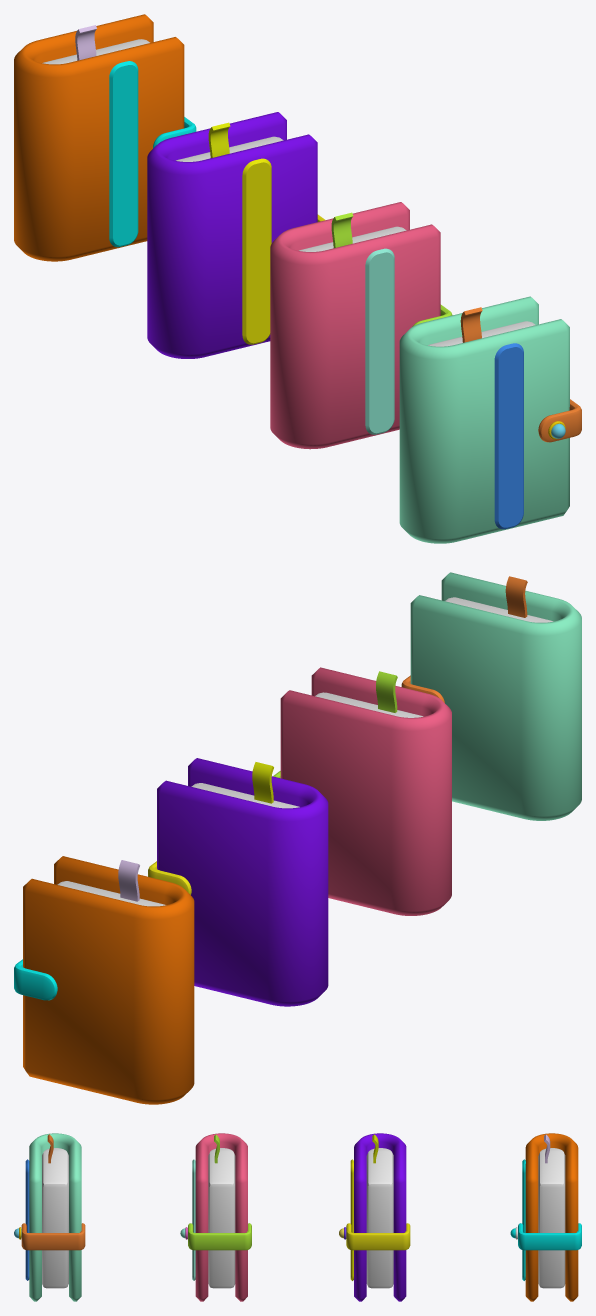
File: 3dmodel6489cbc31de29libro.glb
3 renders of one model, top to bottom at view 1: azimuth 30°, elevation 25°; view 2: azimuth 150°, elevation 25°; view 3: azimuth 270°, elevation 25°, orthographic. The views are drawn at different scales.
Parts seen in each view (by area): view 1: Portada_Libro, Portada_Libro.003, Portada_Libro.001, Portada_Libro.002, AgarreLibro.001, AgarreLibro, AgarreLibro.003, AgarreLibro.002, CierreLibro; view 2: Portada_Libro.003, Portada_Libro.002, Portada_Libro, Portada_Libro.001, CierreLibro.003, MarcaPaginas, MarcaPaginas.001, MarcaPaginas.002, MarcaPaginas.003; view 3: Portada_Libro.003, Portada_Libro.001, Portada_Libro.002, Portada_Libro, Paginas.002, Paginas.001, Paginas.003, Paginas, CierreLibro.002, CierreLibro, CierreLibro.001, CierreLibro.003 (+4 smaller).
Part boxes in pixels (x1,y1,x2,y2): Portada_Libro: (399,296,569,543); Portada_Libro.003: (14,14,184,261); Portada_Libro.001: (270,202,440,449); Portada_Libro.002: (147,112,317,358); AgarreLibro.001: (365,248,394,434); AgarreLibro: (494,343,523,529); AgarreLibro.003: (109,61,138,247); AgarreLibro.002: (242,158,271,344); CierreLibro: (538,399,581,442); Portada_Libro.003: (23,856,194,1104); Portada_Libro.002: (157,758,328,1006); Portada_Libro: (410,572,581,820); Portada_Libro.001: (280,667,451,915); CierreLibro.003: (14,959,57,1000); MarcaPaginas: (505,576,527,617); MarcaPaginas.001: (376,671,397,712); MarcaPaginas.002: (252,762,273,803); MarcaPaginas.003: (118,860,139,901); Portada_Libro.003: (525,1133,578,1301); Portada_Libro.001: (195,1133,247,1301); Portada_Libro.002: (354,1133,406,1301); Portada_Libro: (29,1133,81,1301); Paginas.002: (366,1148,393,1288); Paginas.001: (208,1148,235,1288); Paginas.003: (538,1148,565,1288); Paginas: (42,1148,68,1288); CierreLibro.002: (346,1223,410,1250); CierreLibro: (21,1223,85,1250); CierreLibro.001: (188,1223,251,1250); CierreLibro.003: (518,1223,581,1250).
Size of the model in its own units: 2.36 by 3.16 by 11.63.
